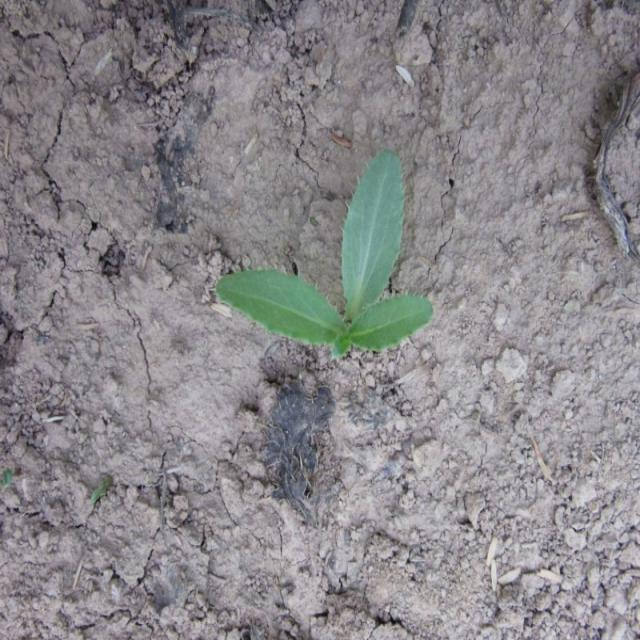field_thistle: (217, 158, 465, 408)
